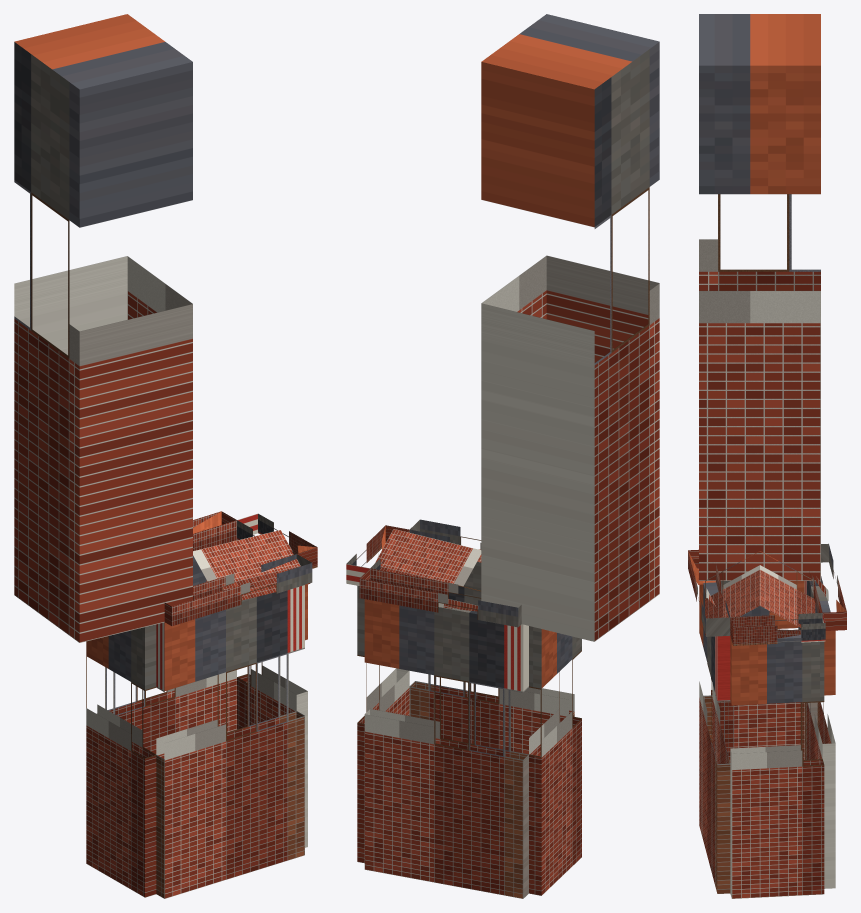
The picture shows the model from 3 angles, left to right: view 1: azimuth 30°, elevation 25°; view 2: azimuth 150°, elevation 25°; view 3: azimuth 270°, elevation 25°; orthographic projection. The views are drawn at different scales.
Parts seen in each view (by area): view 1: 1106967119__chimney_0_xb, 1106967119__wall_0_xb, 1106967119__wall_1_xb, 1106967119__wall_2_xb, 1106967119_roof_-1_xb, 1106967119__wall_3_xb, 1106967119__cornice_0, 1106967119__cornice_2, 1106967119__cornice_3; view 2: 1106967119__chimney_0_xb, 1106967119__wall_2_xb, 1106967119__wall_1_xb, 1106967119__wall_0_xb, 1106967119__cornice_2, 1106967119_roof_1_xb, 1106967119__wall_3_xb, 1106967119__cornice_3, 1106967119__cornice_0; view 3: 1106967119__chimney_0_xb, 1106967119__wall_3_xb, 1106967119__wall_0_xb, 1106967119__wall_2_xb, 1106967119__wall_1_xb, 1106967119__cornice_3, 1106967119_roof_1_xb, 1106967119_roof_-1_xb, 1106967119__cornice_0, 1106967119__cornice_2.
Boxes of the visible parts, x1,y1,x2,y2 form: 1106967119__chimney_0_xb: (14, 14, 192, 642); 1106967119__wall_0_xb: (156, 585, 304, 898); 1106967119__wall_1_xb: (86, 624, 156, 897); 1106967119__wall_2_xb: (96, 540, 236, 754); 1106967119_roof_-1_xb: (193, 530, 310, 600); 1106967119__wall_3_xb: (237, 540, 307, 847); 1106967119__cornice_0: (164, 554, 312, 626); 1106967119__cornice_2: (193, 511, 236, 550); 1106967119__cornice_3: (237, 513, 317, 568); 1106967119__chimney_0_xb: (481, 14, 659, 641); 1106967119__wall_2_xb: (364, 599, 528, 898); 1106967119__wall_1_xb: (529, 626, 581, 895); 1106967119__wall_0_xb: (409, 557, 574, 754); 1106967119__cornice_2: (359, 568, 521, 627); 1106967119_roof_1_xb: (374, 529, 481, 591); 1106967119__wall_3_xb: (357, 585, 409, 863); 1106967119__cornice_3: (346, 525, 409, 585); 1106967119__cornice_0: (409, 519, 481, 562); 1106967119__chimney_0_xb: (699, 14, 820, 580); 1106967119__wall_3_xb: (730, 635, 824, 898); 1106967119__wall_0_xb: (699, 581, 730, 893); 1106967119__wall_2_xb: (804, 576, 835, 888); 1106967119__wall_1_xb: (711, 581, 804, 762); 1106967119__cornice_3: (730, 613, 825, 645); 1106967119_roof_1_xb: (760, 551, 815, 627); 1106967119_roof_-1_xb: (705, 551, 759, 635); 1106967119__cornice_0: (688, 549, 730, 636); 1106967119__cornice_2: (809, 543, 846, 630).
Size of the model in its own units: 0.3394 by 1.05 by 0.1955.
Materials: 1 (1 with a texture image).
